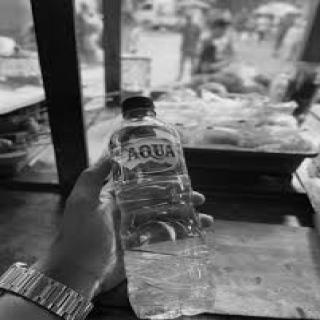plastic_bottles: (111, 99, 214, 320)
